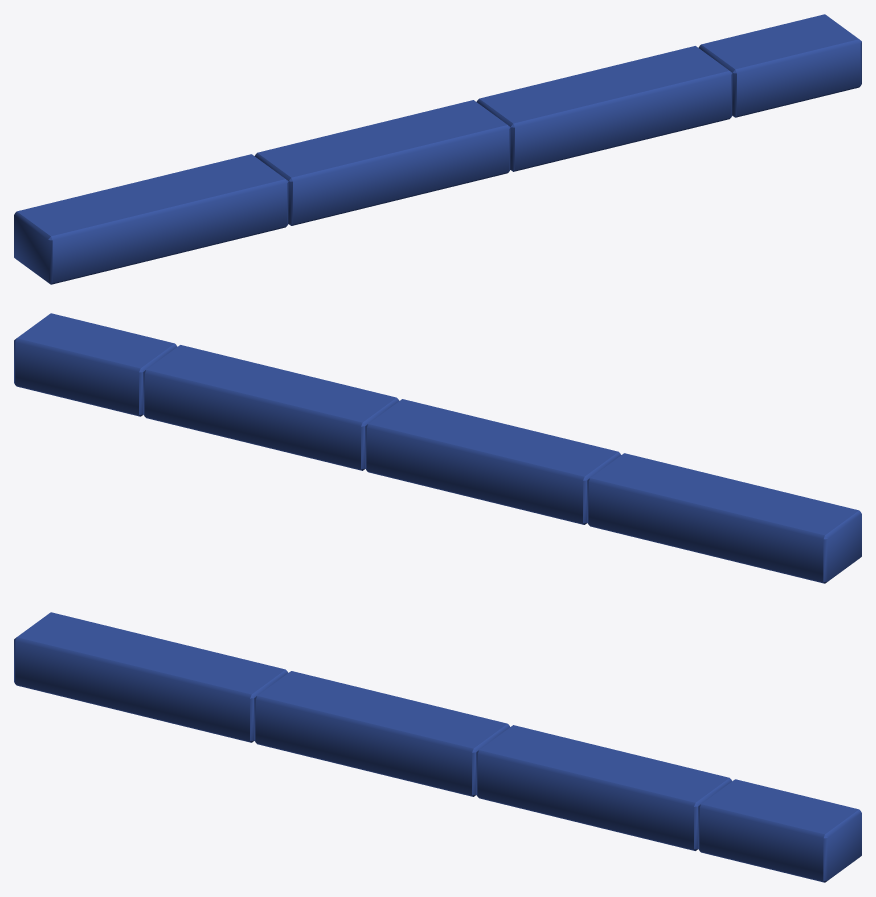
Rendered from wall_top_2.fbx.
3 renders of one model, top to bottom at view 1: azimuth 30°, elevation 25°; view 2: azimuth 150°, elevation 25°; view 3: azimuth 330°, elevation 25°, orthographic.
Parts seen in each view (by area): view 1: wall_top_2; view 2: wall_top_2; view 3: wall_top_2.
Boxes of the visible parts, bbox=[...] form: wall_top_2: bbox=[14, 14, 861, 284]; wall_top_2: bbox=[14, 313, 861, 583]; wall_top_2: bbox=[14, 612, 861, 882].
Size of the model in its own units: 173 by 9.84 by 13.78.
